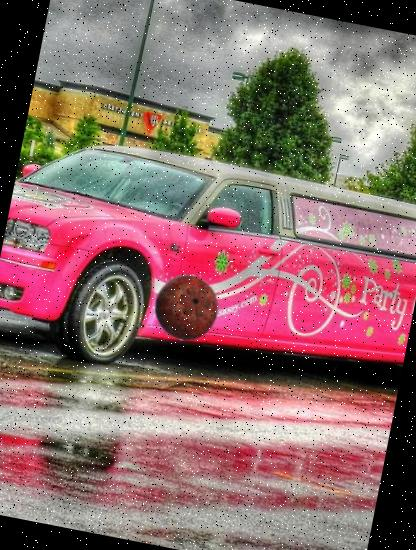Mangostan: (146, 268, 226, 348)
